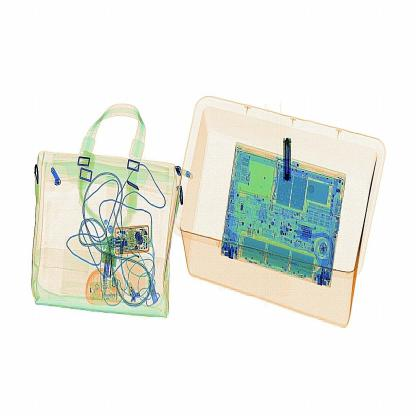scissors: (278, 132, 301, 187)
